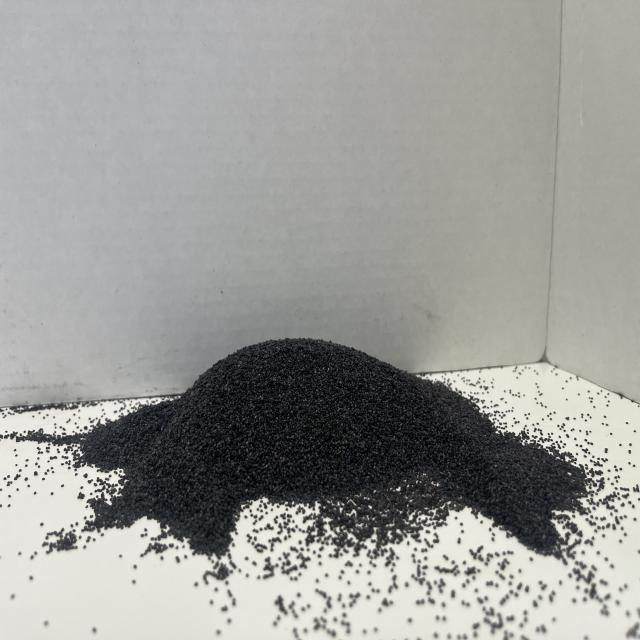Poppy Seeds: (44, 304, 606, 569)
